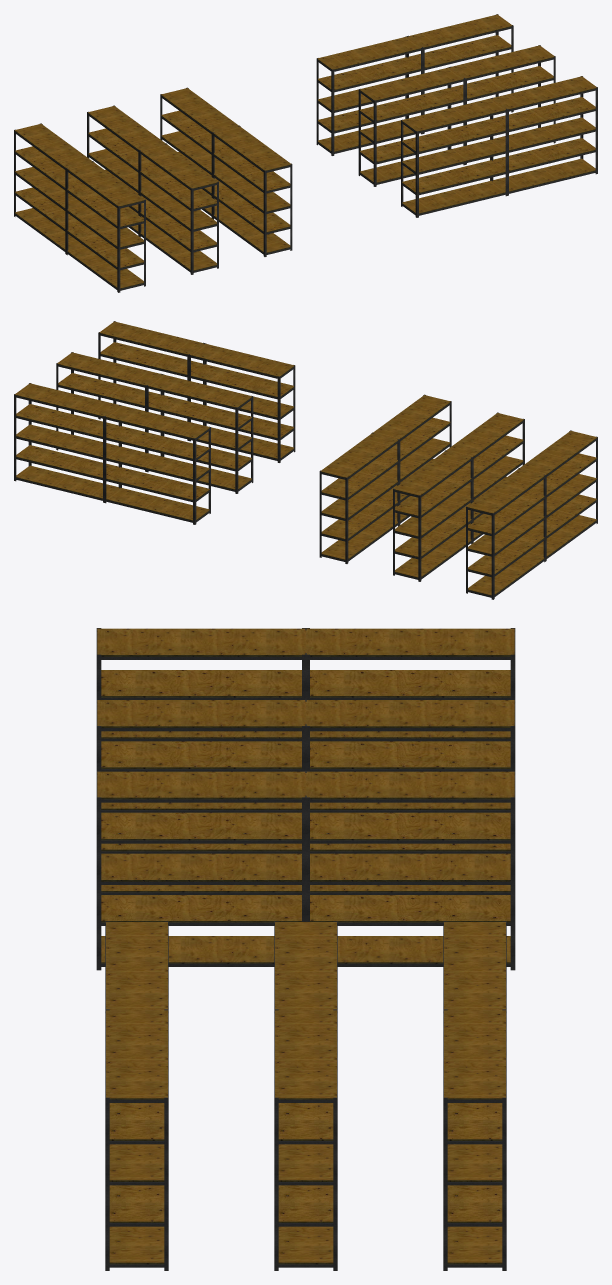
The model's file is stellaji.fbx.
3 views of the same model, one above another, from view 1: azimuth 30°, elevation 25°; view 2: azimuth 150°, elevation 25°; view 3: azimuth 270°, elevation 25° (orthographic). The views are drawn at different scales.
Parts seen in each view (by area): view 1: polySurface1697, polySurface1698, polySurface1685, polySurface1687, polySurface1686, polySurface1700, polySurface1701, polySurface1690, polySurface1689, polySurface1688, polySurface1702, polySurface1699; view 2: polySurface1701, polySurface1702, polySurface1688, polySurface1690, polySurface1689, polySurface1700, polySurface1697, polySurface1687, polySurface1686, polySurface1685, polySurface1699, polySurface1698; view 3: polySurface1685, polySurface1688, polySurface1686, polySurface1689, polySurface1699, polySurface1698, polySurface1702, polySurface1687, polySurface1690, polySurface1697, polySurface1700, polySurface1701.
Part boxes in pixels (x1,y1,x2,y2): polySurface1697: (401, 98, 507, 217); polySurface1698: (491, 76, 597, 195); polySurface1685: (212, 125, 292, 256); polySurface1687: (66, 161, 145, 292); polySurface1686: (139, 143, 218, 274); polySurface1700: (358, 67, 465, 186); polySurface1701: (316, 36, 423, 155); polySurface1690: (14, 123, 93, 253); polySurface1689: (87, 105, 166, 236); polySurface1688: (160, 87, 239, 217); polySurface1702: (407, 14, 513, 133); polySurface1699: (449, 45, 555, 164); polySurface1701: (104, 405, 210, 524); polySurface1702: (14, 383, 120, 502); polySurface1688: (319, 433, 399, 563); polySurface1690: (466, 468, 545, 599); polySurface1689: (393, 450, 472, 581); polySurface1700: (146, 374, 253, 493); polySurface1697: (188, 343, 295, 462); polySurface1687: (518, 430, 597, 560); polySurface1686: (445, 412, 524, 542); polySurface1685: (372, 394, 451, 524); polySurface1699: (56, 352, 162, 471); polySurface1698: (98, 321, 204, 440); polySurface1685: (96, 771, 306, 970); polySurface1688: (305, 771, 515, 970); polySurface1686: (96, 699, 306, 894); polySurface1689: (305, 699, 515, 894); polySurface1699: (274, 1009, 337, 1270); polySurface1698: (105, 1009, 168, 1270); polySurface1702: (443, 1009, 506, 1270); polySurface1687: (96, 628, 306, 741); polySurface1690: (305, 628, 515, 741); polySurface1697: (105, 921, 168, 1010); polySurface1700: (274, 921, 337, 1010); polySurface1701: (443, 921, 506, 1010).
Bounding box in the file's own units: 13.43 × 2.3 × 5.05.
